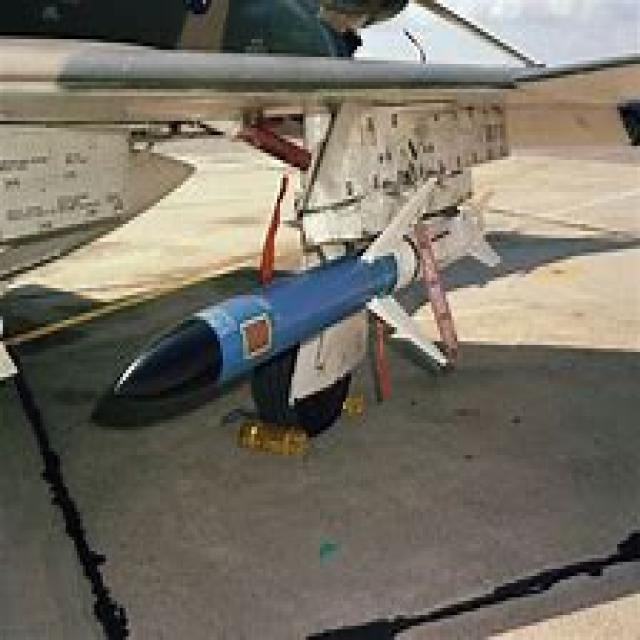missile: (108, 172, 504, 408)
